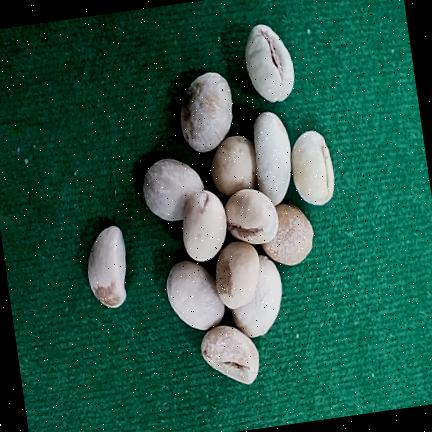husk: (180, 72, 232, 152), (232, 255, 281, 337), (166, 260, 224, 329), (245, 24, 294, 102), (143, 158, 203, 221), (253, 111, 290, 205), (200, 325, 258, 384), (87, 225, 126, 307), (291, 130, 334, 204), (182, 190, 226, 261), (262, 203, 313, 264), (215, 241, 259, 309), (224, 188, 277, 244), (210, 135, 256, 196)
